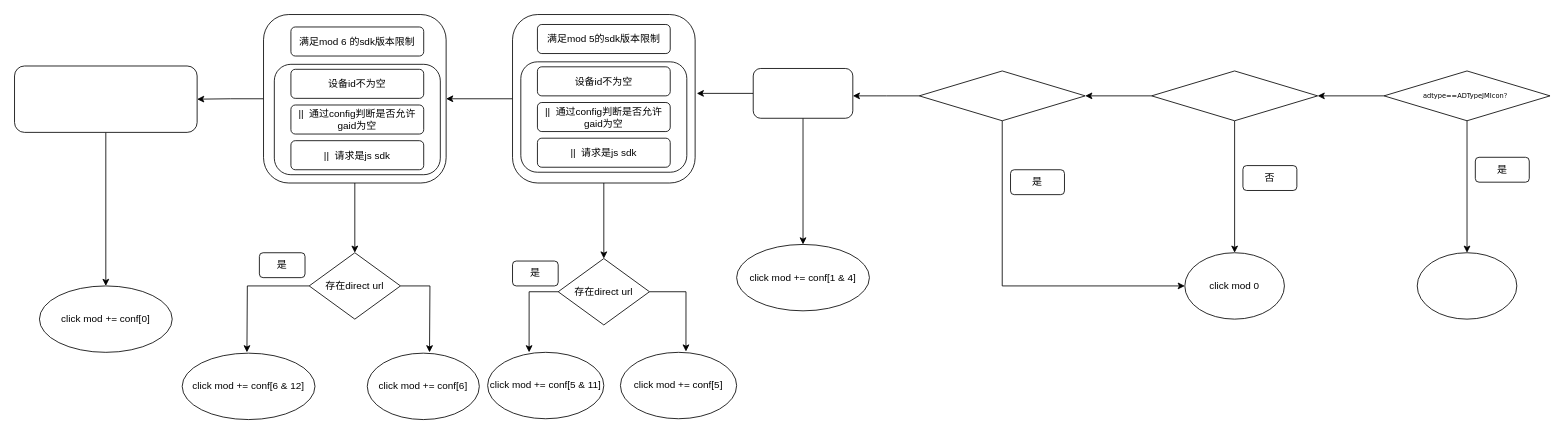
Image size: 1565x434. Some labels were removed from this diagram. The box of each missing label's shape, as (x1, y1, x2, y2) in pixels:
android/ios?: (1151, 70, 1318, 121)
canVTA && devid不为空: (752, 68, 853, 118)
click mod 5: (1416, 252, 1517, 319)
offer没有pkgName？: (918, 70, 1085, 121)
增加默认的click mod 0: (14, 65, 197, 132)
